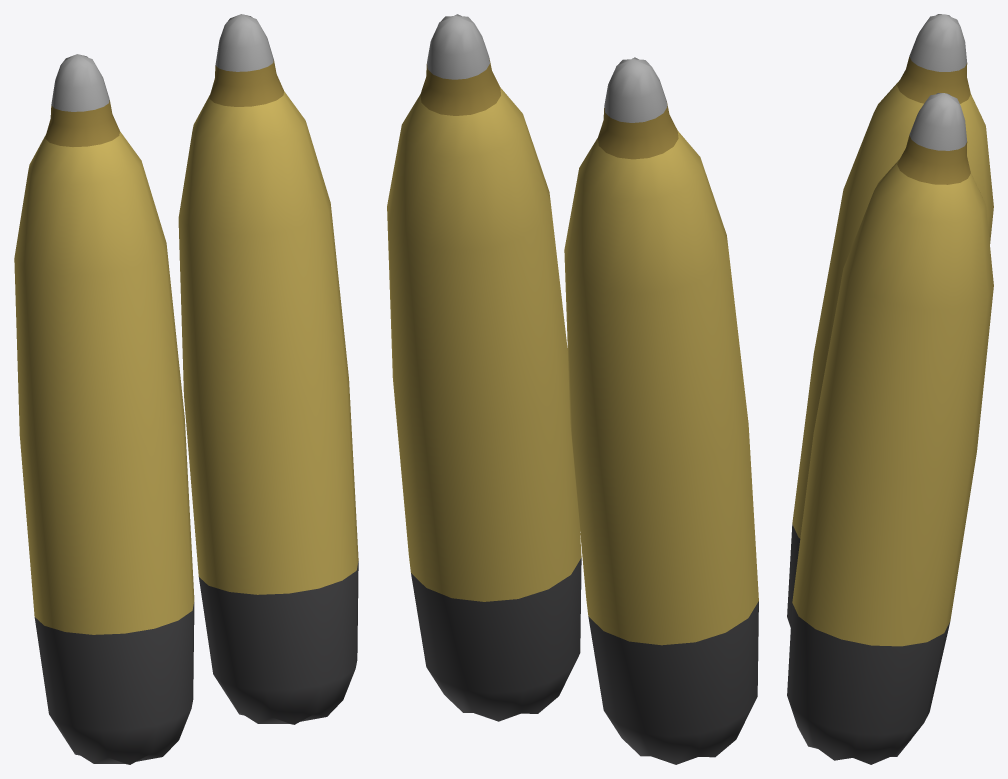
The model's file is Tanks.fbx.
3 views of the same model, side by side, from view 1: azimuth 30°, elevation 25°; view 2: azimuth 150°, elevation 25°; view 3: azimuth 270°, elevation 25° (orthographic). The views are drawn at different scales.
Visible parts, largest first — view 1: Tank02, Tank01; view 2: Tank02, Tank01; view 3: Tank01, Tank02.
Part boxes in pixels (x1,y1,x2,y2): Tank02: [14, 54, 194, 764]; Tank01: [178, 14, 358, 724]; Tank02: [564, 57, 758, 764]; Tank01: [387, 14, 581, 721]; Tank01: [787, 93, 993, 764]; Tank02: [787, 14, 993, 627].
Size of the model in its own units: 29.33 by 61.21 by 17.28.
